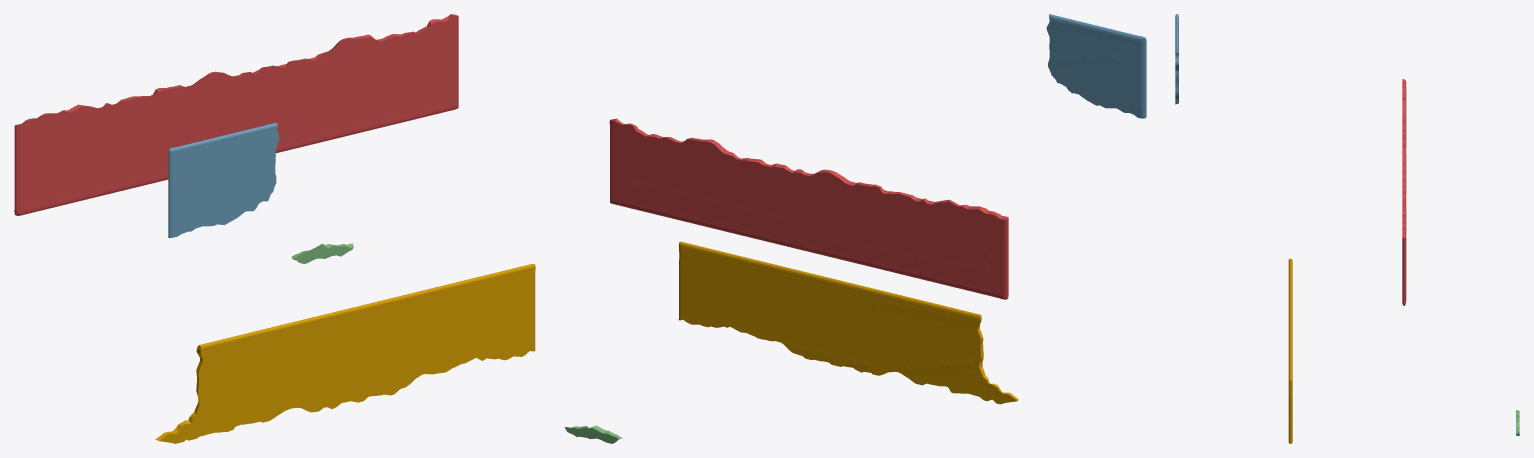
File: mode_3_4pcs_transformed.glb
3 views of the same model, side by side, from view 1: azimuth 30°, elevation 25°; view 2: azimuth 150°, elevation 25°; view 3: azimuth 270°, elevation 25° (orthographic). The views are drawn at different scales.
Visible parts, largest first — view 1: piece_1.obj, piece_0.obj, piece_2.obj, piece_3.obj; view 2: piece_1.obj, piece_0.obj, piece_2.obj, piece_3.obj; view 3: piece_1.obj, piece_0.obj, piece_2.obj.
Part boxes in pixels (left/top/right/bottom): piece_1.obj: left=14, top=14, right=458, bottom=215; piece_0.obj: left=155, top=264, right=535, bottom=443; piece_2.obj: left=168, top=122, right=279, bottom=237; piece_3.obj: left=291, top=243, right=353, bottom=263; piece_1.obj: left=609, top=118, right=1008, bottom=299; piece_0.obj: left=678, top=241, right=1018, bottom=404; piece_2.obj: left=1046, top=14, right=1146, bottom=118; piece_3.obj: left=564, top=425, right=622, bottom=443; piece_1.obj: left=1402, top=79, right=1406, bottom=305; piece_0.obj: left=1288, top=258, right=1292, bottom=443; piece_2.obj: left=1175, top=14, right=1178, bottom=104.
Size of the model in its own units: 1 by 0.8066 by 0.9102.
